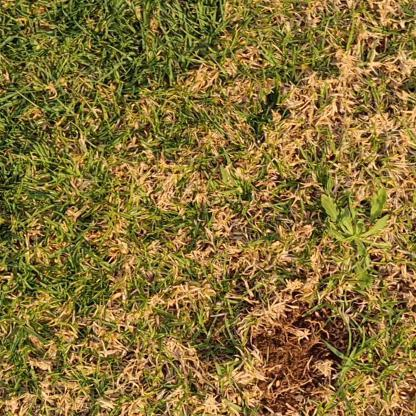Weeds: (319, 187, 390, 295)
